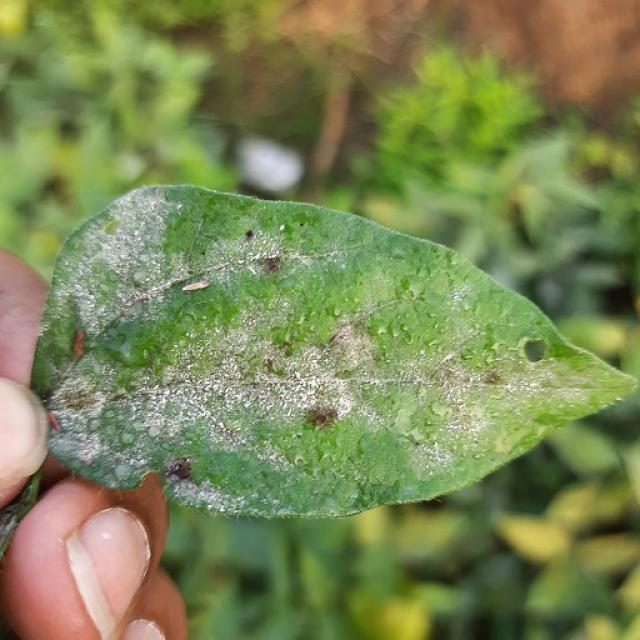Blackgram: (32, 185, 636, 516)
Powdery_Mildew: (69, 232, 554, 485), (83, 220, 342, 343), (139, 287, 361, 420), (328, 310, 506, 445), (166, 467, 392, 523), (183, 192, 349, 267), (120, 366, 259, 444), (353, 282, 469, 368), (175, 300, 291, 376), (99, 215, 190, 291), (54, 404, 154, 471), (49, 359, 143, 418), (248, 358, 340, 414), (485, 402, 566, 461), (257, 291, 335, 351), (251, 328, 315, 381), (176, 481, 263, 515), (494, 365, 561, 408), (326, 321, 374, 370), (408, 433, 460, 471), (270, 207, 325, 236), (304, 499, 356, 518), (193, 494, 236, 514), (403, 278, 426, 299), (113, 463, 135, 481), (279, 224, 286, 231)
